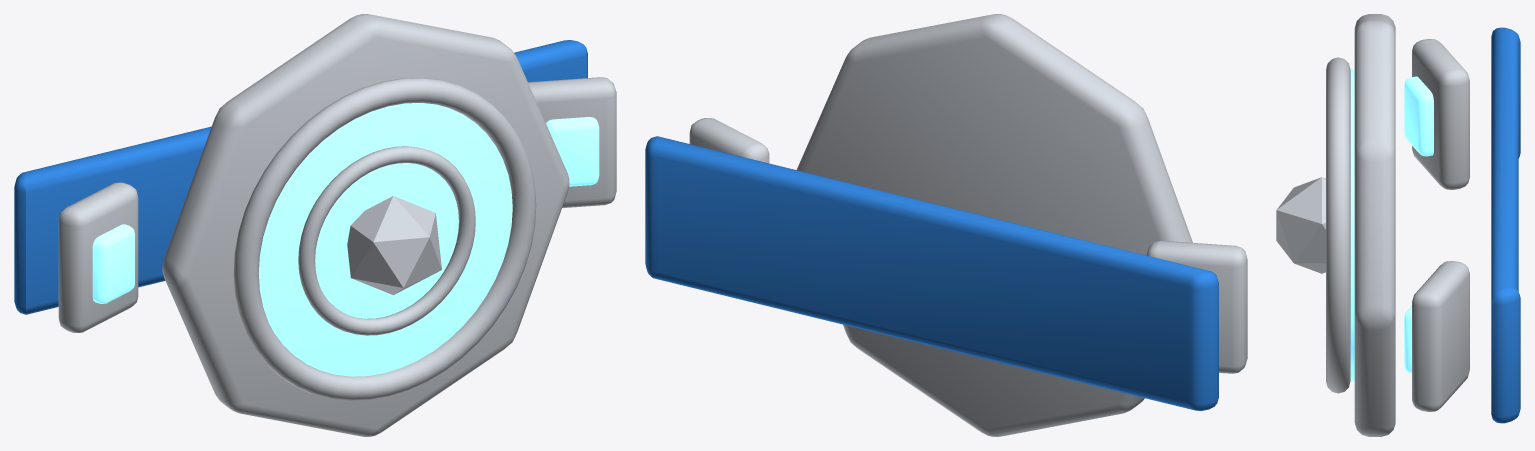
File: belt.glb
3 views of the same model, side by side, from view 1: azimuth 30°, elevation 25°; view 2: azimuth 150°, elevation 25°; view 3: azimuth 270°, elevation 25° (orthographic). The views are drawn at different scales.
Visible parts, largest first — view 1: belt; view 2: belt; view 3: belt.
Part boxes in pixels (left/top/right/bottom): belt: left=14, top=14, right=616, bottom=436; belt: left=645, top=14, right=1247, bottom=436; belt: left=1276, top=14, right=1520, bottom=436.
Size of the model in its own units: 1.6 by 1.11 by 0.6095.
